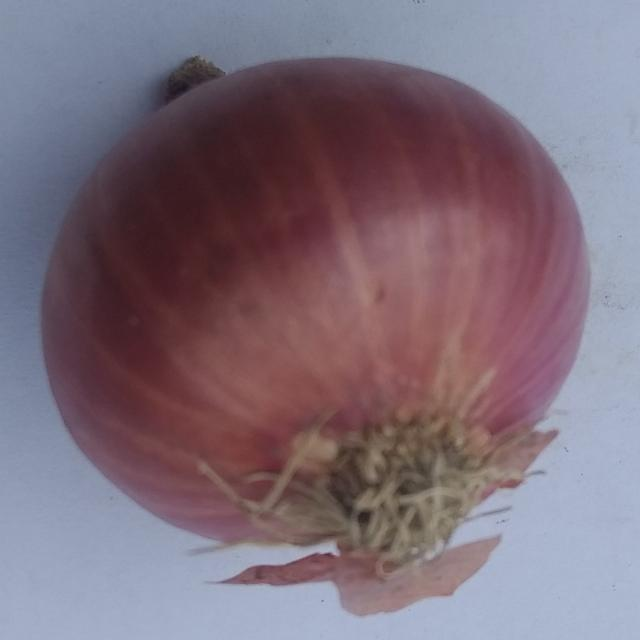onion: (41, 53, 591, 618)
